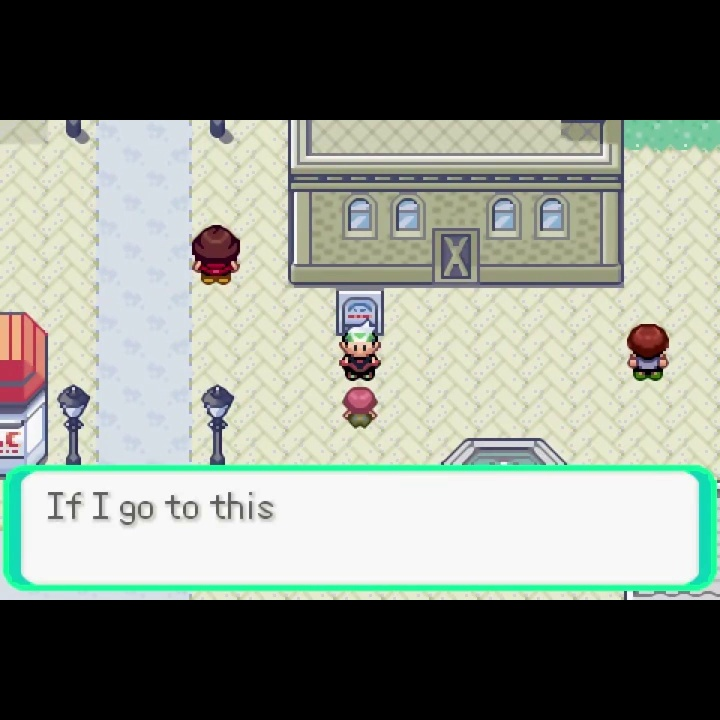agent: (337, 320, 383, 386)
house: (285, 120, 628, 289)
npc: (188, 221, 242, 286), (624, 322, 673, 382), (340, 384, 380, 431)
